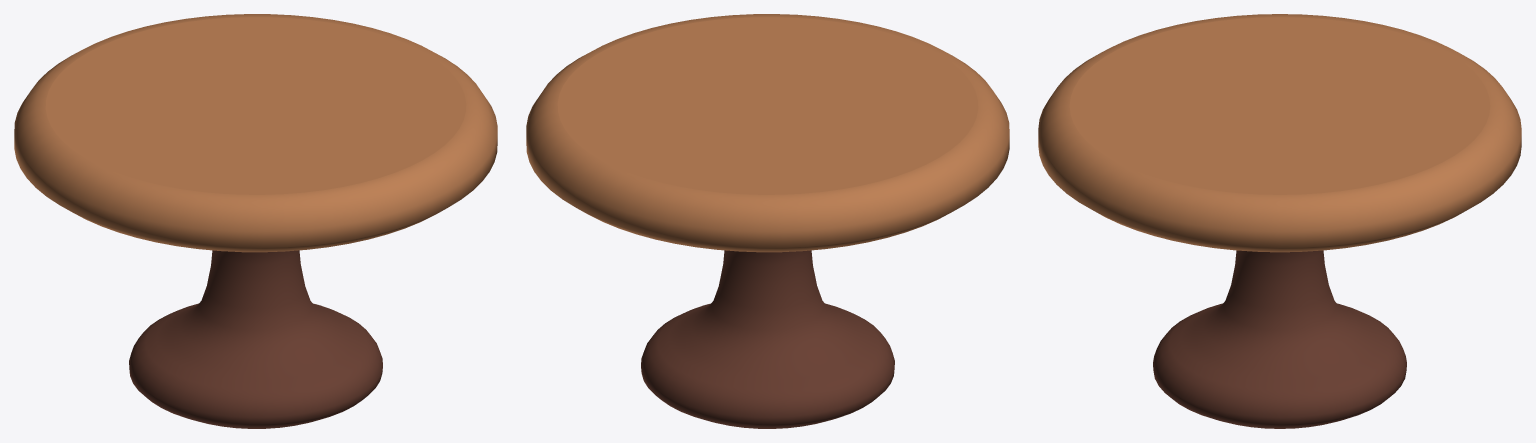
Rendered from atelier_mosaic.glb.
The picture shows the model from 3 angles, left to right: view 1: azimuth 30°, elevation 25°; view 2: azimuth 150°, elevation 25°; view 3: azimuth 270°, elevation 25°; orthographic projection.
Parts seen in each view (by area): view 1: Mesa redonda de madera; view 2: Mesa redonda de madera; view 3: Mesa redonda de madera.
Boxes of the visible parts, <box> form: Mesa redonda de madera: <box>14,14,497,428</box>; Mesa redonda de madera: <box>526,14,1009,428</box>; Mesa redonda de madera: <box>1038,14,1521,428</box>.
Bounding box in the file's own units: 0.94 × 0.6 × 0.94.
